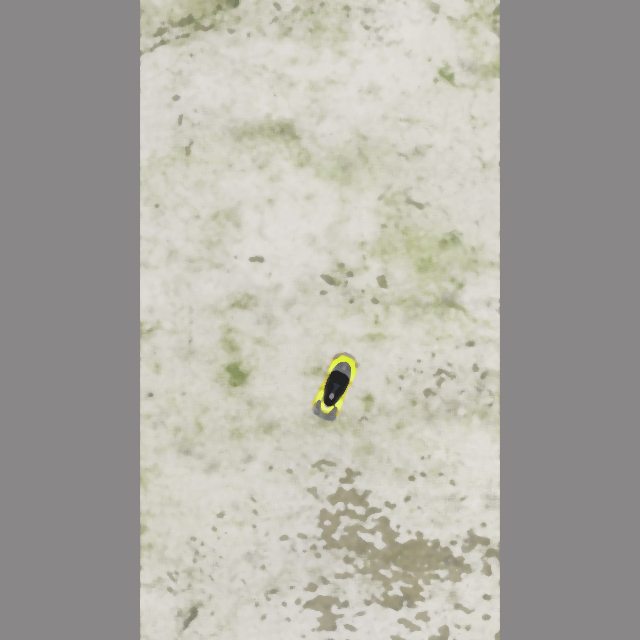car: (307, 350, 362, 425)
